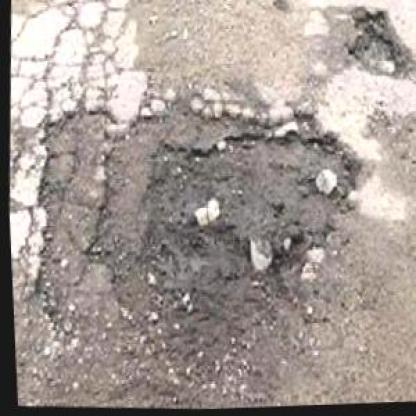pothole: (79, 89, 370, 385), (337, 1, 415, 86)
